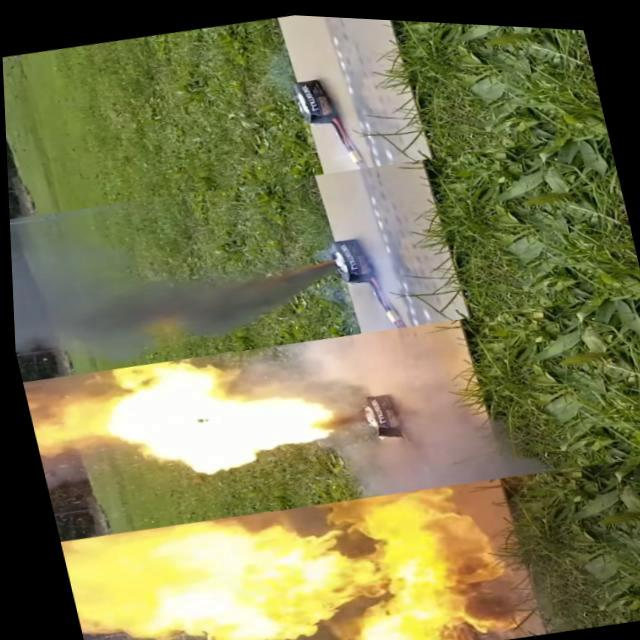fire: (51, 450, 542, 640), (58, 336, 378, 522)
